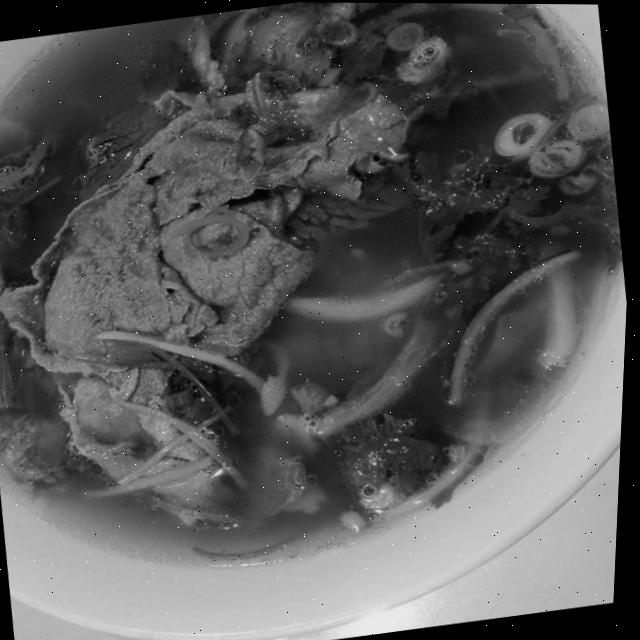面条主食: (0, 0, 640, 635)
